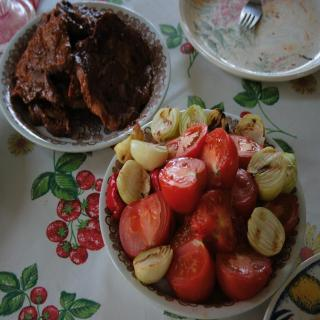tomato: (169, 216, 210, 302), (118, 191, 170, 258), (156, 162, 212, 219), (216, 246, 272, 300), (198, 126, 240, 187), (175, 122, 208, 156), (75, 220, 104, 252), (81, 190, 101, 220), (56, 199, 80, 221), (46, 219, 68, 242), (70, 243, 88, 264), (76, 170, 94, 190), (30, 286, 48, 304), (18, 305, 38, 319), (56, 242, 72, 259), (42, 306, 59, 320), (92, 178, 103, 194)
